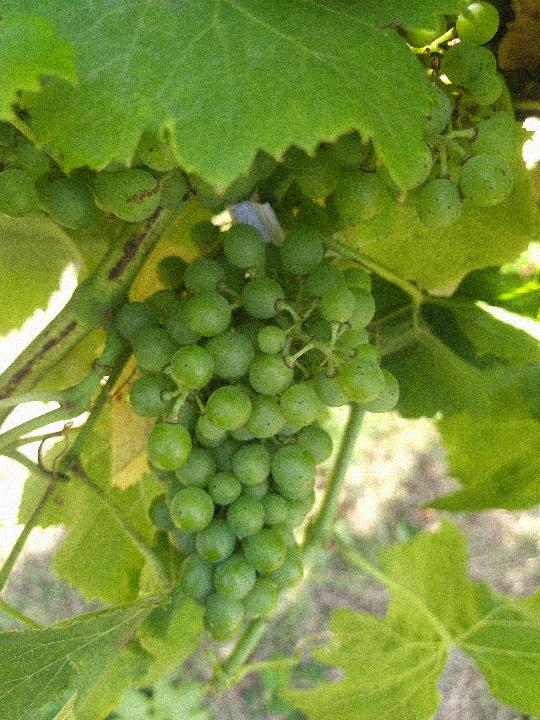grape: (117, 218, 404, 647)
